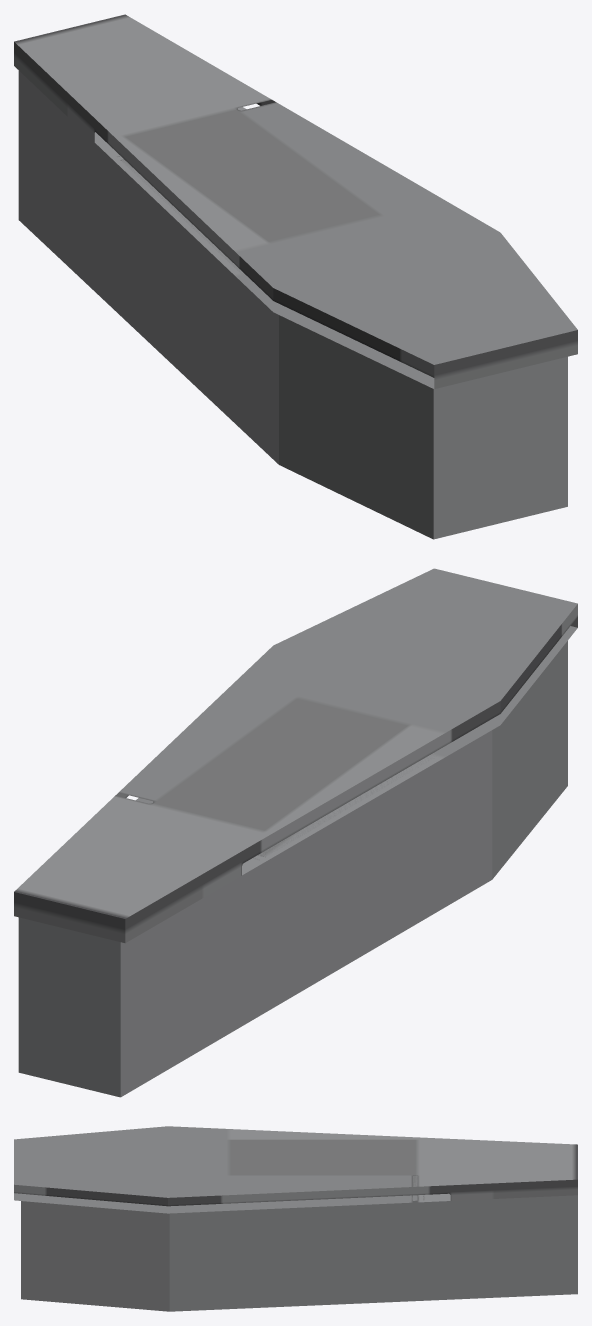
3 renders of one model, top to bottom at view 1: azimuth 30°, elevation 25°; view 2: azimuth 150°, elevation 25°; view 3: azimuth 270°, elevation 25°, orthographic. The views are drawn at different scales.
Size of the model in its own units: 0.49 by 0.37 by 1.63.
